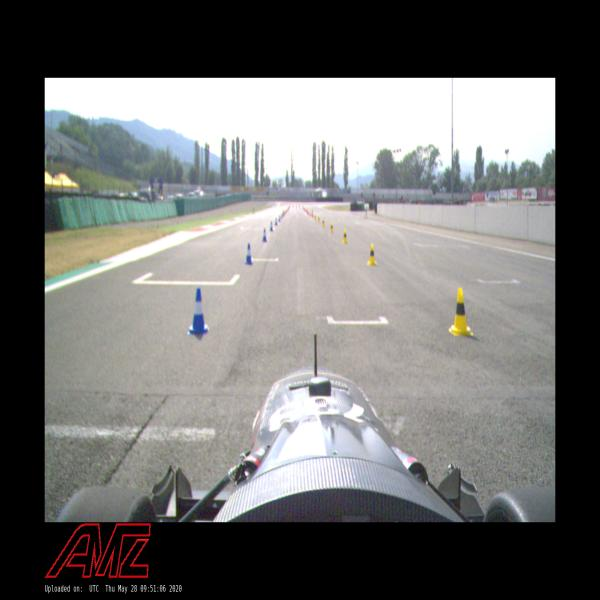blue_cone: (187, 287, 210, 335), (244, 242, 254, 265), (262, 228, 267, 242), (270, 221, 274, 231), (274, 217, 278, 226), (278, 215, 281, 222), (280, 213, 282, 219)
yellow_cone: (449, 288, 474, 338), (367, 242, 377, 266), (342, 229, 348, 243), (329, 222, 334, 232), (321, 218, 325, 226), (318, 215, 320, 223), (314, 214, 316, 220), (312, 212, 314, 217)
